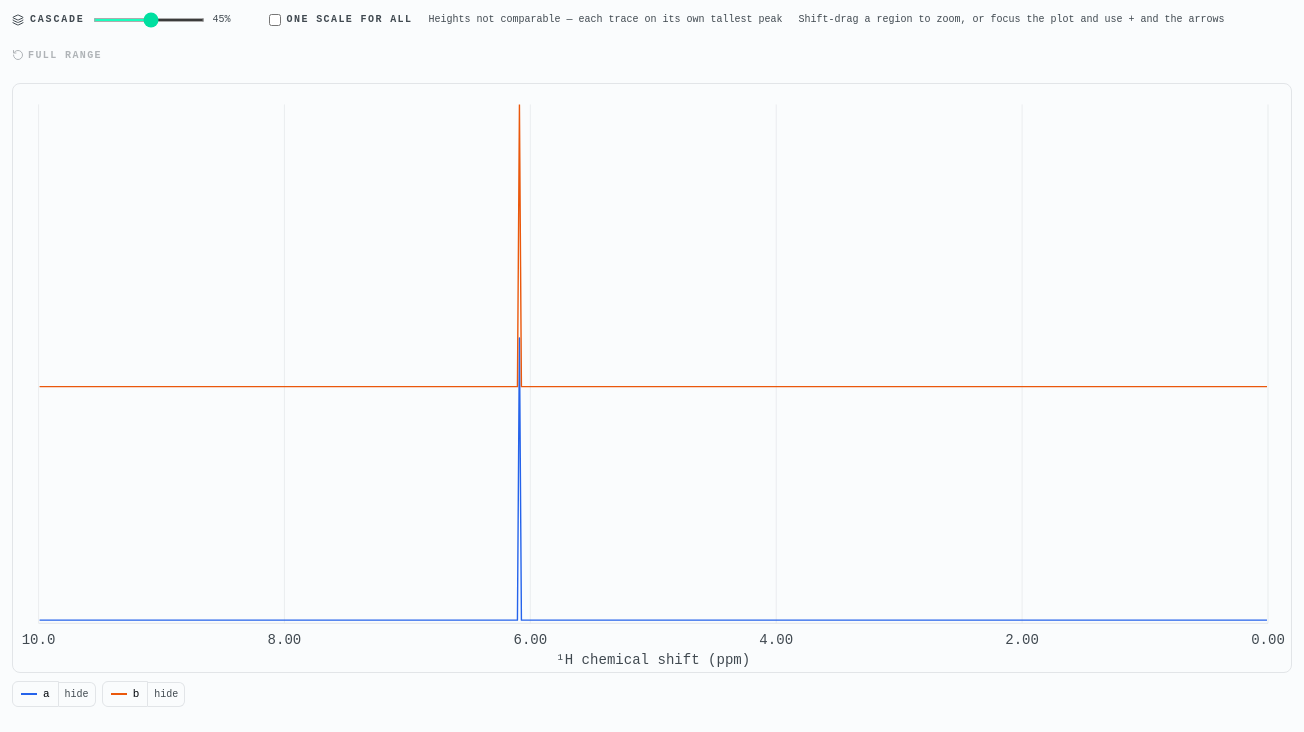
it: canvas gesture contract — stacked viewer › zooms only on the shift-drag chord — a plain drag at full range changes nothing
Step 1. Press the mouse on the picture with test id "spectrum-stack-viewer-plot" → coordinates (652, 378), box [12,83,1292,673]
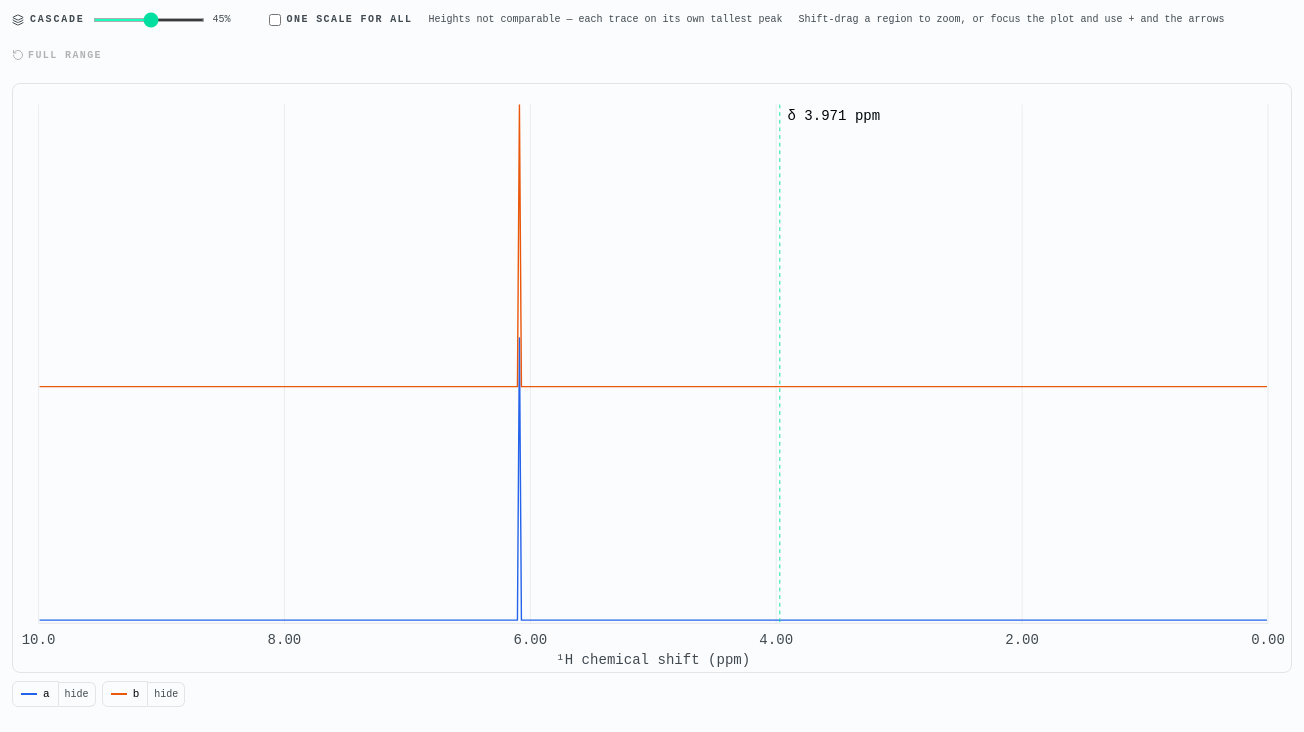
Expected: the button with test id "spectrum-stack-viewer-reset-zoom" is disabled, [12,35,102,75]
Step 2. Press the mouse on the picture with test id "spectrum-stack-viewer-plot" → coordinates (652, 378), box [12,83,1292,673]
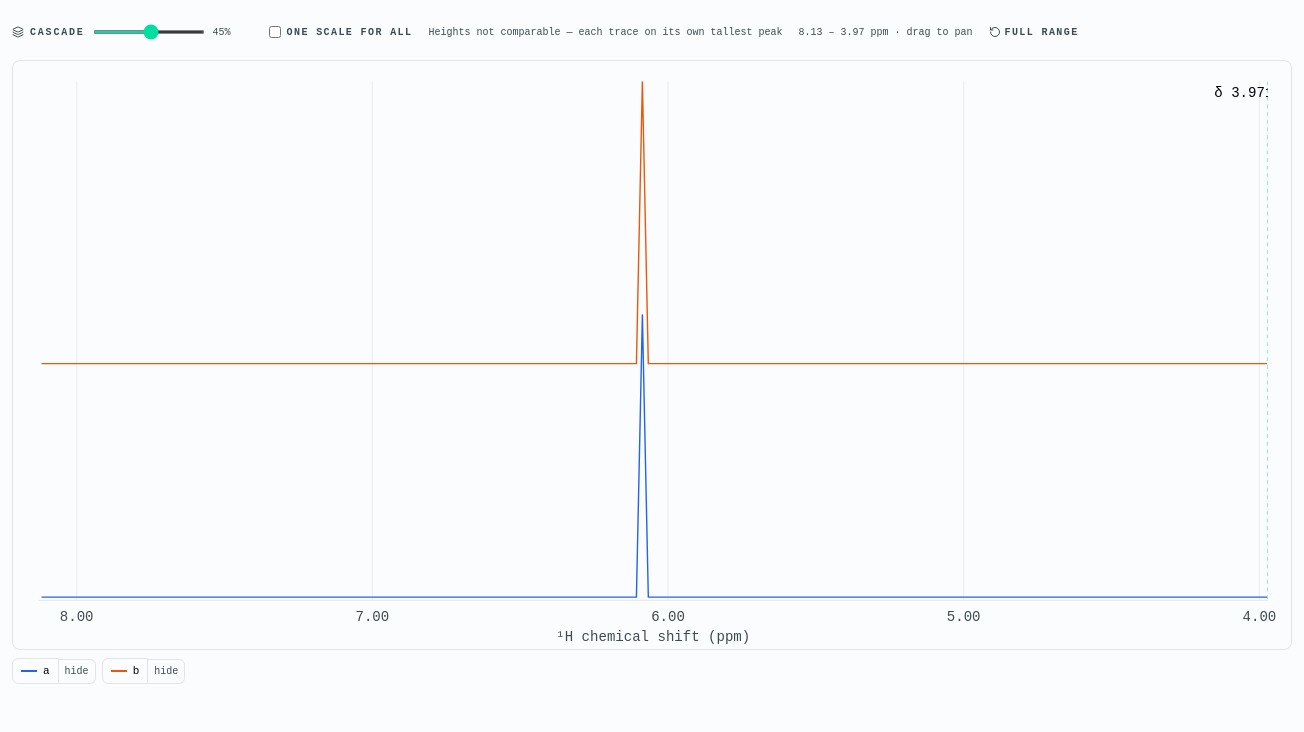
Now the button with test id "spectrum-stack-viewer-reset-zoom" is enabled, box [988,12,1078,52]
